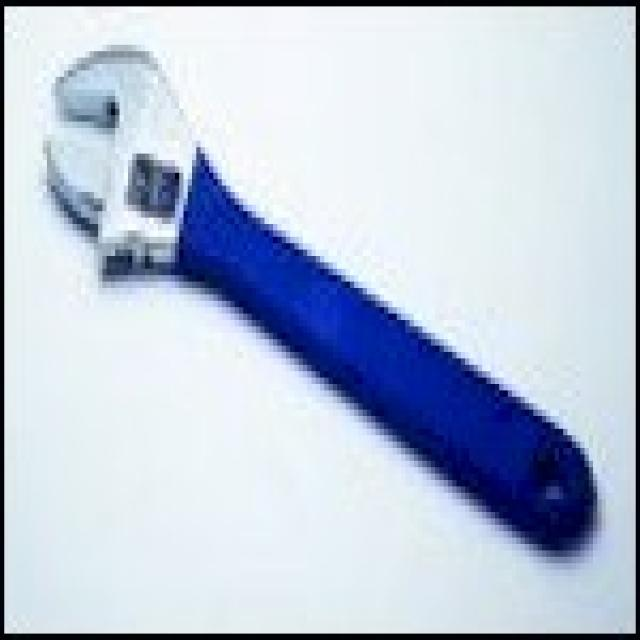wrench: (26, 0, 635, 571)
